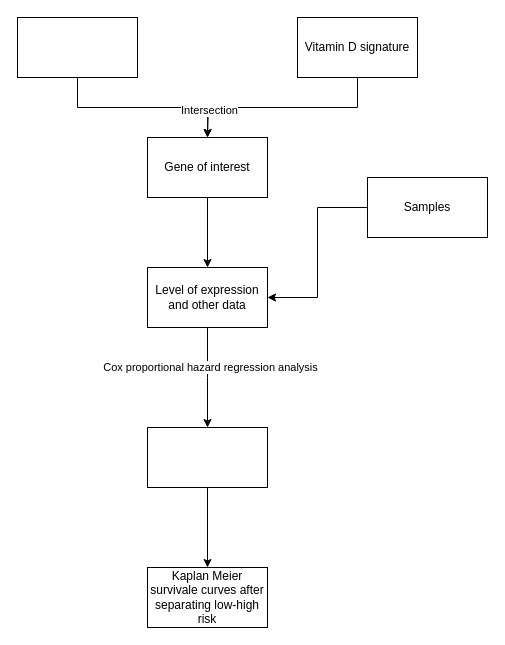
Image size: 505x645. Some labels were removed from this diagram. Here are the shapes that lost their labels. From the top down, the box of each, then its label:
(16, 16, 138, 78): List of DEG
(146, 426, 268, 488): Survival related genes
